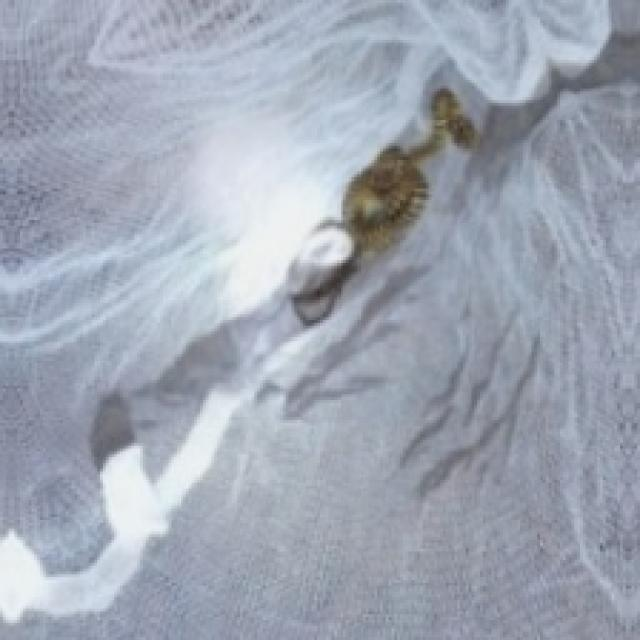mangrove cat snake: (286, 89, 477, 323), (317, 89, 477, 271)
